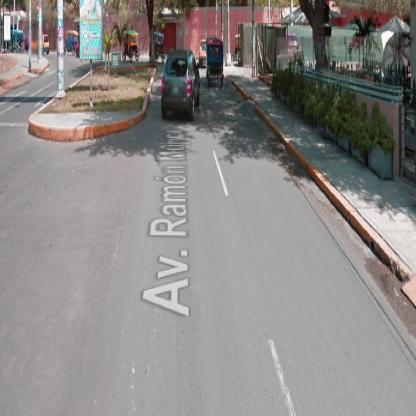Pista: (2, 55, 415, 415)
Vehiculo: (162, 49, 201, 121), (206, 37, 225, 91), (122, 31, 140, 63), (150, 31, 166, 66)
